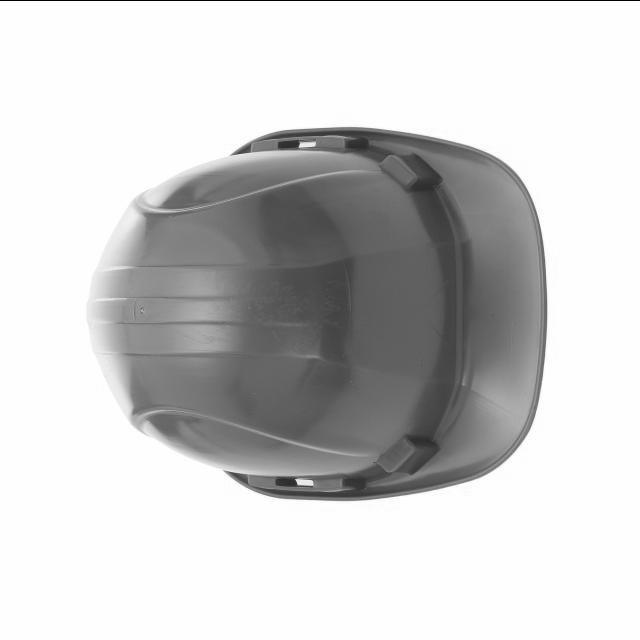safety_helmet: (88, 125, 548, 500)
